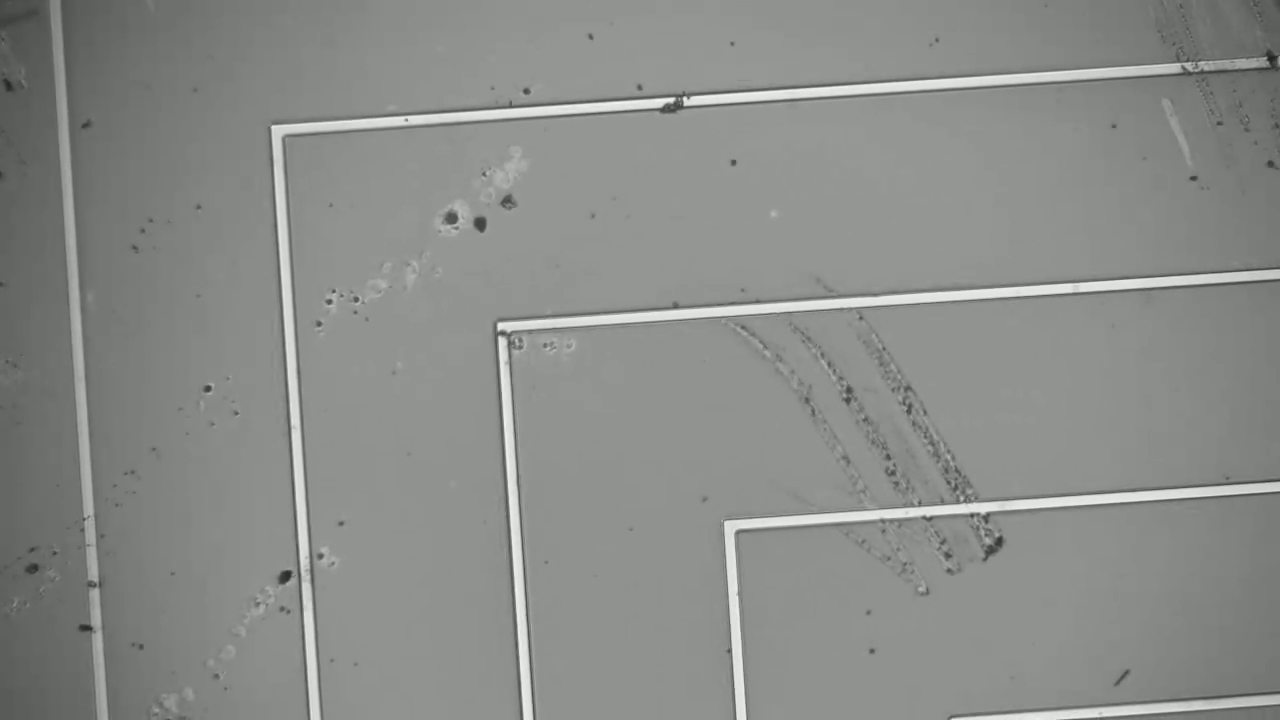scratch: (713, 285, 1011, 597)
stains_enbedded: (656, 85, 694, 119)
